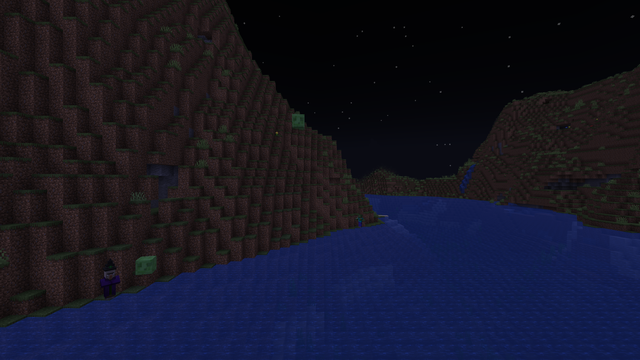slimes: (133, 255, 157, 274), (291, 113, 304, 128)
sorcieres: (101, 266, 118, 300)
zombies: (358, 214, 362, 226)
